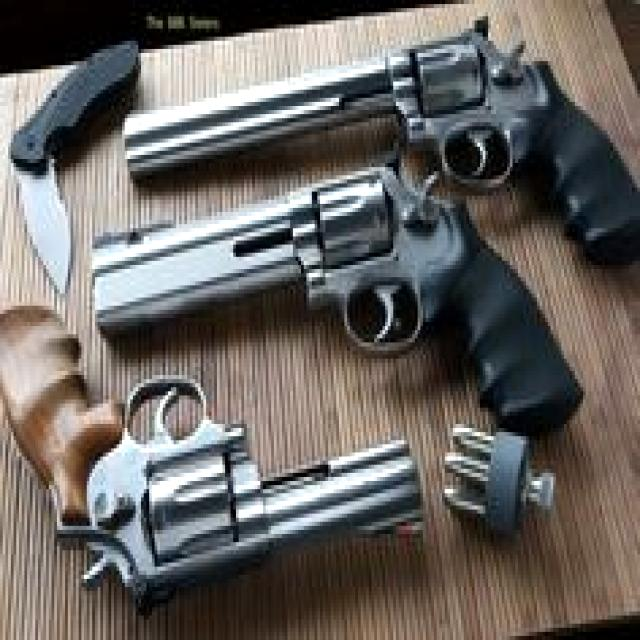revolver: (73, 144, 613, 448)
